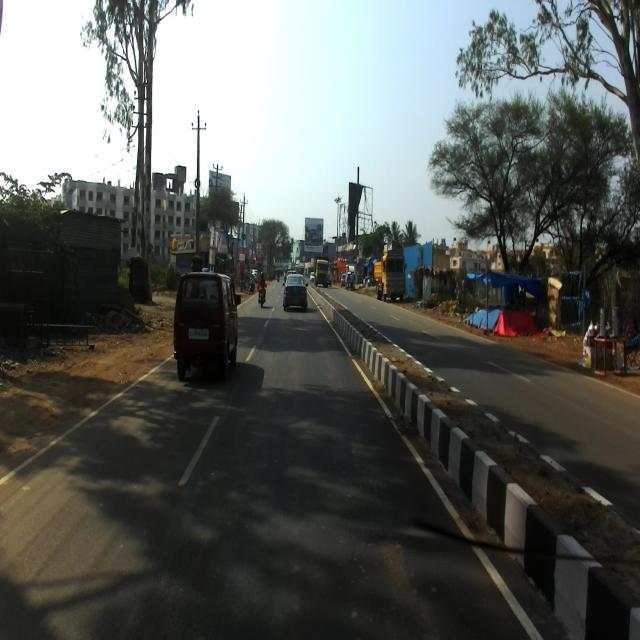car: (173, 270, 240, 381), (282, 273, 308, 311)
